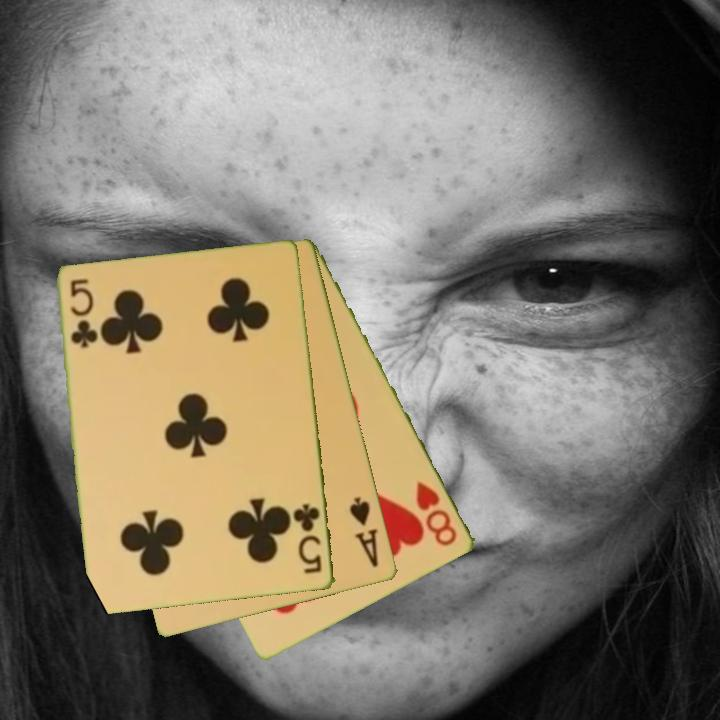5c: (290, 500, 325, 577), (67, 275, 98, 351)
8h: (412, 478, 461, 550)
As: (346, 493, 382, 570)
